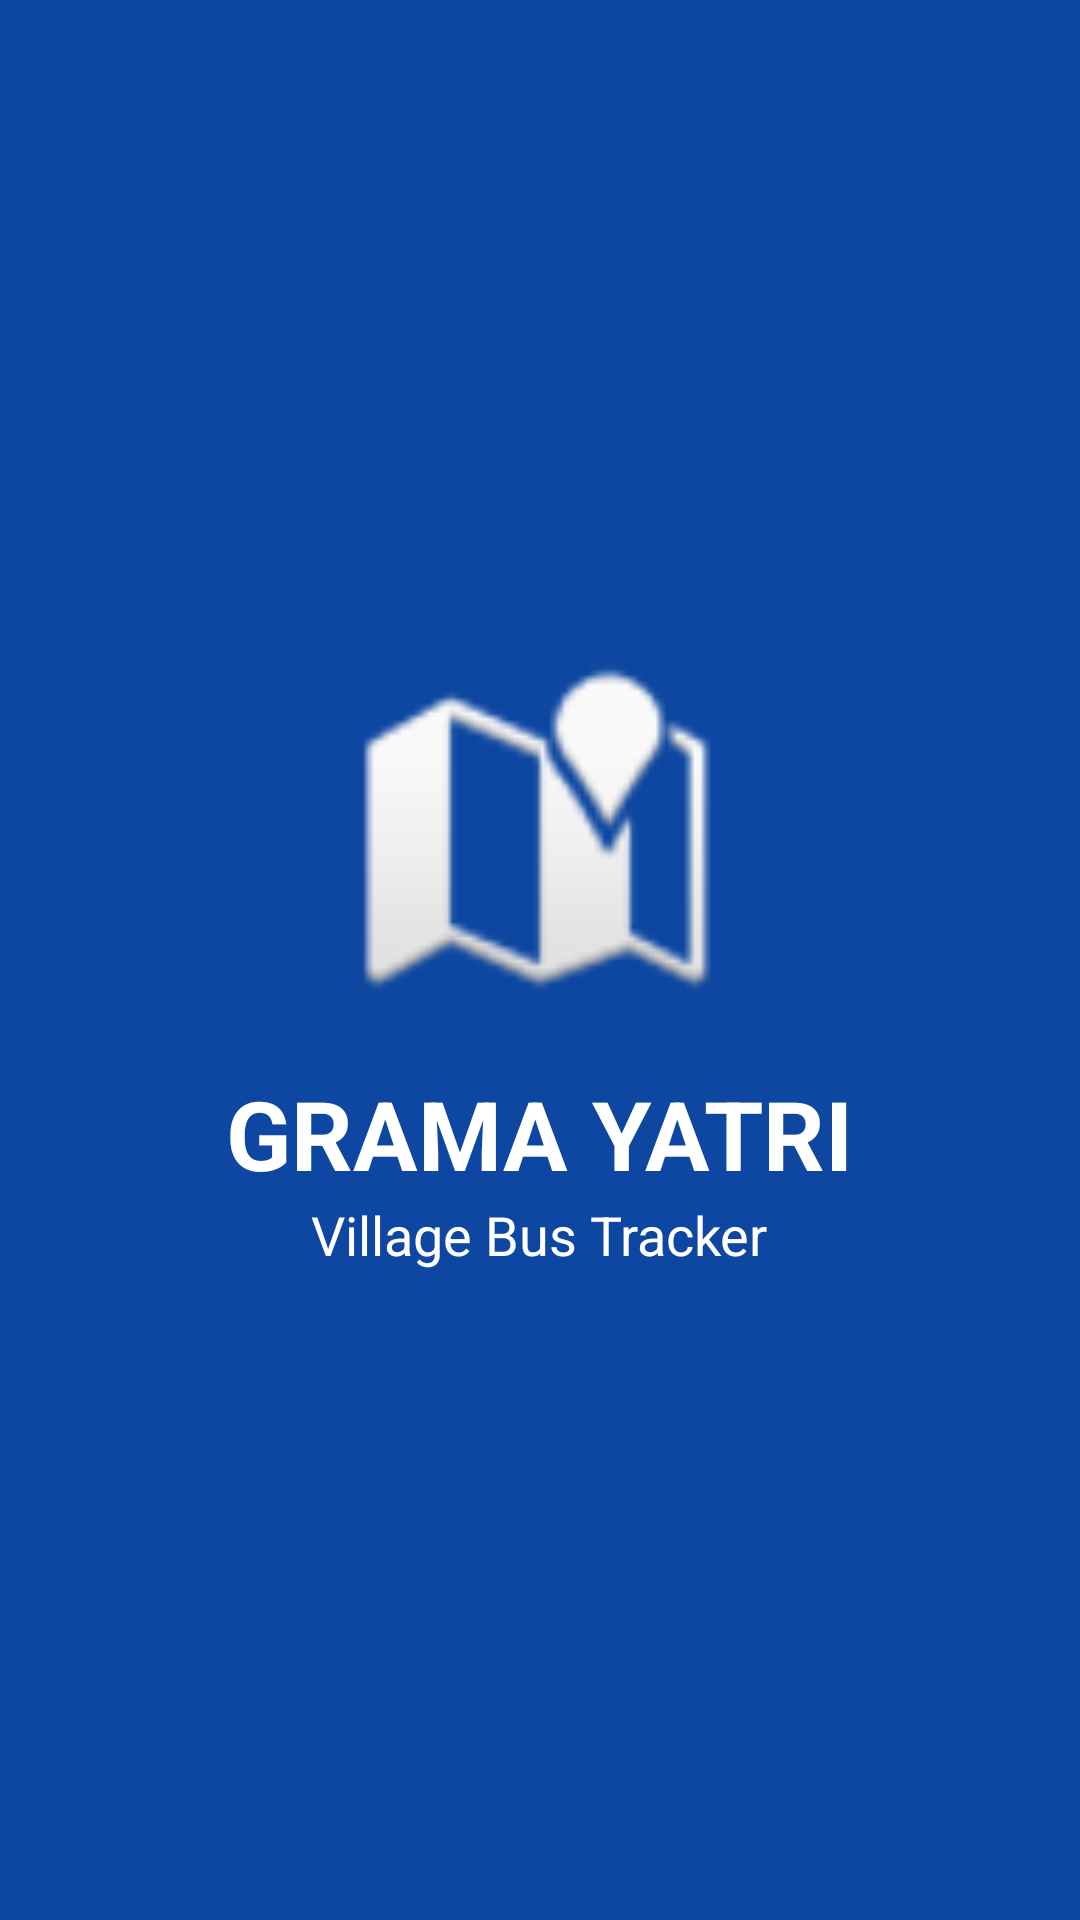

Screen size 1080px x 1920px. Icon name, then its center in pixels as (x=x, y=y):
map: (x=537, y=828)
